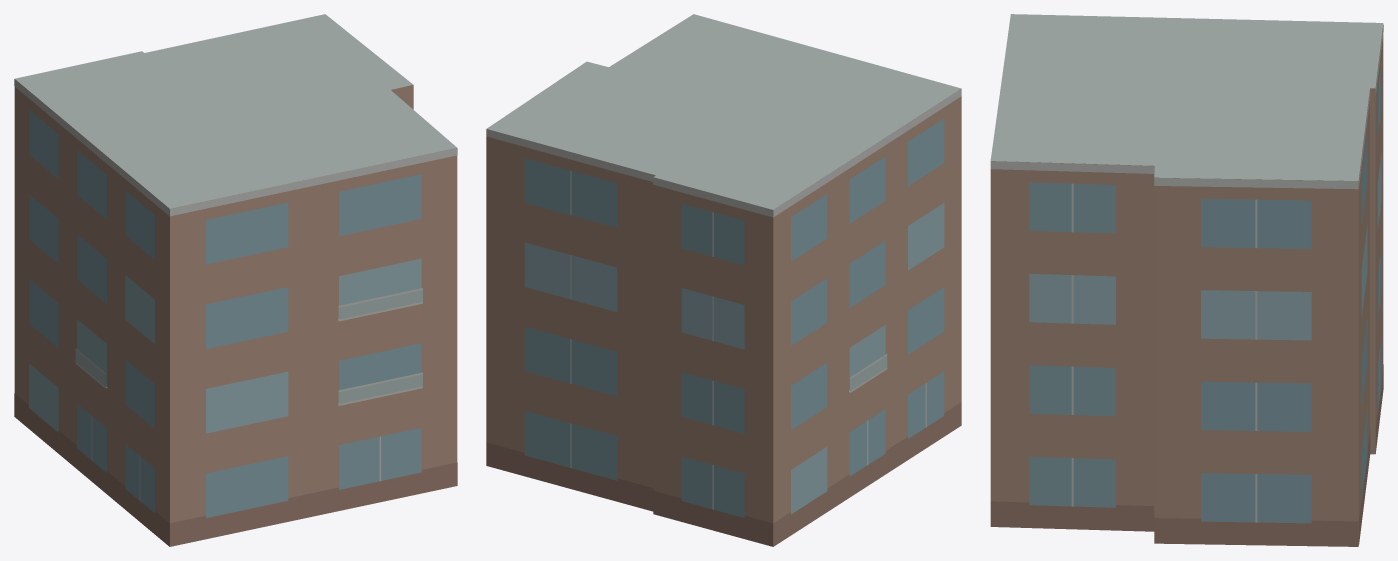
The model's file is survey-upis-32736050.glb.
3 renders of one model, left to right at view 1: azimuth 30°, elevation 25°; view 2: azimuth 150°, elevation 25°; view 3: azimuth 270°, elevation 25°, orthographic. The views are drawn at different scales.
Parts seen in each view (by area): view 1: survey-upis-32736050.tmp; view 2: survey-upis-32736050.tmp; view 3: survey-upis-32736050.tmp.
Boxes of the visible parts, x1,y1,x2,y2 form: survey-upis-32736050.tmp: (14, 14, 457, 546); survey-upis-32736050.tmp: (486, 14, 961, 546); survey-upis-32736050.tmp: (990, 14, 1383, 546).
Bounding box in the file's own units: 10.68 × 10.9 × 10.62.
